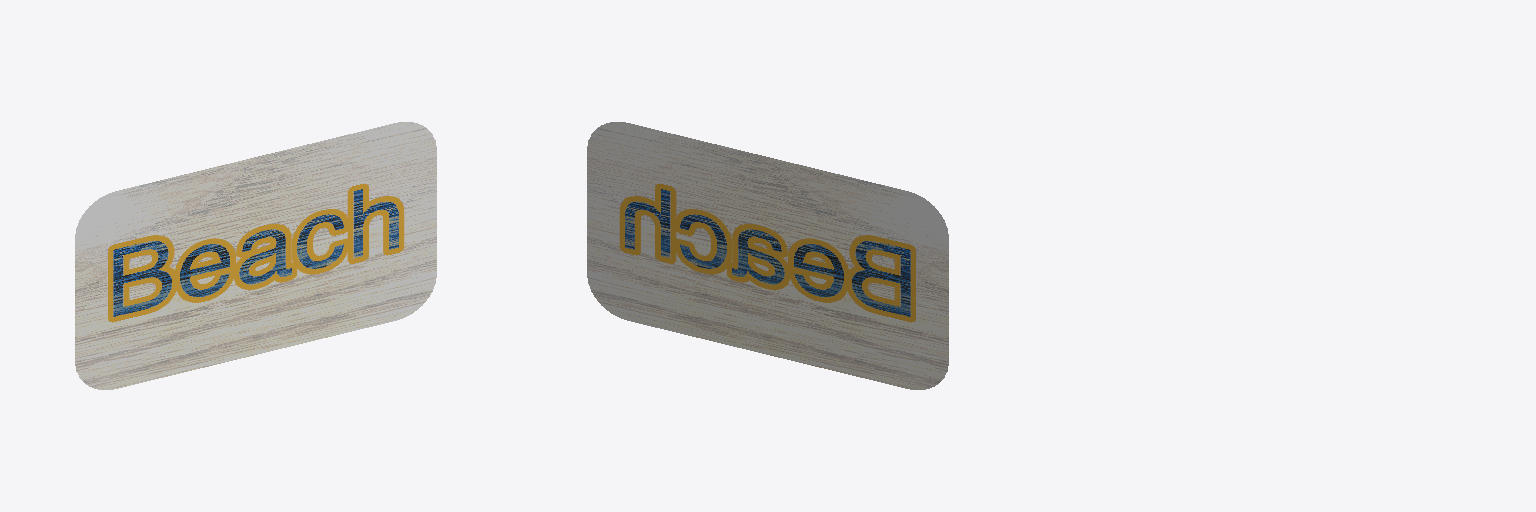
The picture shows the model from 3 angles: view 1: azimuth 30°, elevation 25°; view 2: azimuth 150°, elevation 25°; view 3: azimuth 270°, elevation 25°; orthographic projection.
Visible parts, largest first — view 1: Plane; view 2: Plane; view 3: none.
Boxes of the visible parts, box(x1,y1,x2,y2) form: Plane: box(75, 122, 436, 389); Plane: box(587, 122, 948, 389).
Bounding box in the file's own units: 1.5 × 0.7828 × 0.
1 materials, 1 textured.